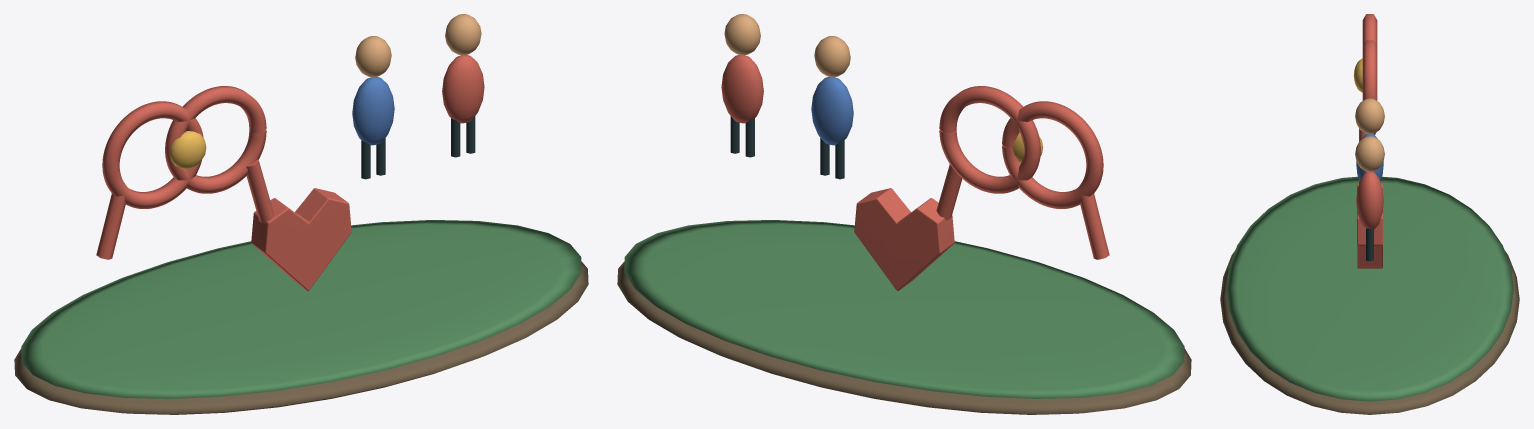
The model's file is complete-first-marriage-knot.glb.
3 renders of one model, left to right at view 1: azimuth 30°, elevation 25°; view 2: azimuth 150°, elevation 25°; view 3: azimuth 270°, elevation 25°, orthographic. The views are drawn at different scales.
Parts seen in each view (by area): view 1: complete-first-marriage-knot_surface_01, complete-first-marriage-knot_surface_02, complete-first-marriage-knot_surface_00, complete-first-marriage-knot_surface_04, complete-first-marriage-knot_surface_05, complete-first-marriage-knot_surface_06, complete-first-marriage-knot_surface_03; view 2: complete-first-marriage-knot_surface_01, complete-first-marriage-knot_surface_02, complete-first-marriage-knot_surface_00, complete-first-marriage-knot_surface_04, complete-first-marriage-knot_surface_05, complete-first-marriage-knot_surface_06; view 3: complete-first-marriage-knot_surface_01, complete-first-marriage-knot_surface_00, complete-first-marriage-knot_surface_02, complete-first-marriage-knot_surface_04.
Boxes of the visible parts, left/top/right/bottom form: complete-first-marriage-knot_surface_01: left=21, top=220, right=581, bottom=398; complete-first-marriage-knot_surface_02: left=96, top=55, right=484, bottom=291; complete-first-marriage-knot_surface_00: left=14, top=261, right=588, bottom=414; complete-first-marriage-knot_surface_04: left=355, top=14, right=481, bottom=77; complete-first-marriage-knot_surface_05: left=352, top=77, right=394, bottom=145; complete-first-marriage-knot_surface_06: left=361, top=116, right=475, bottom=179; complete-first-marriage-knot_surface_03: left=169, top=131, right=206, bottom=169; complete-first-marriage-knot_surface_01: left=624, top=220, right=1184, bottom=398; complete-first-marriage-knot_surface_02: left=721, top=55, right=1109, bottom=291; complete-first-marriage-knot_surface_00: left=617, top=261, right=1191, bottom=414; complete-first-marriage-knot_surface_04: left=724, top=14, right=850, bottom=77; complete-first-marriage-knot_surface_05: left=811, top=77, right=853, bottom=145; complete-first-marriage-knot_surface_06: left=730, top=116, right=844, bottom=179; complete-first-marriage-knot_surface_01: left=1226, top=176, right=1513, bottom=401; complete-first-marriage-knot_surface_00: left=1220, top=251, right=1519, bottom=414; complete-first-marriage-knot_surface_02: left=1356, top=14, right=1383, bottom=268; complete-first-marriage-knot_surface_04: left=1355, top=98, right=1384, bottom=171.
Size of the model in its own units: 4.56 by 2.25 by 2.5.
